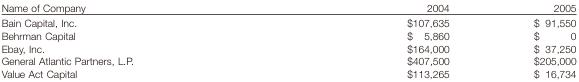table: (0, 0, 575, 79)
table column: (0, 0, 269, 79), (269, 0, 490, 79), (490, 0, 575, 79)
table column header: (0, 0, 575, 14)
table row: (0, 14, 575, 29), (0, 0, 575, 14), (0, 41, 575, 54), (0, 66, 575, 79), (0, 29, 575, 41), (0, 54, 575, 66)
